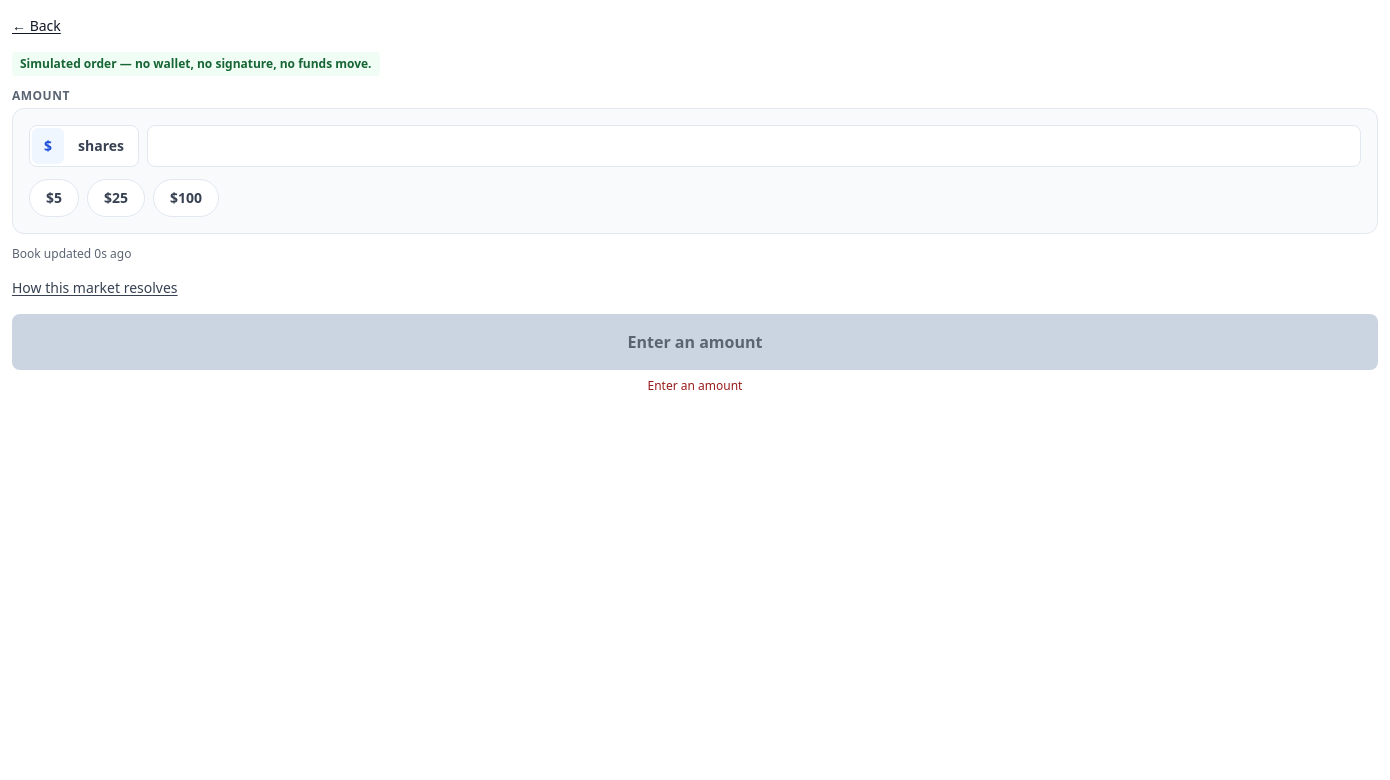
Test case: OrderPreviewState › labels the fee "estimated" when FeeConfig.source is category-fallback
Type "30" into the number field. click: (754, 146)
box: [147,125,1361,167]
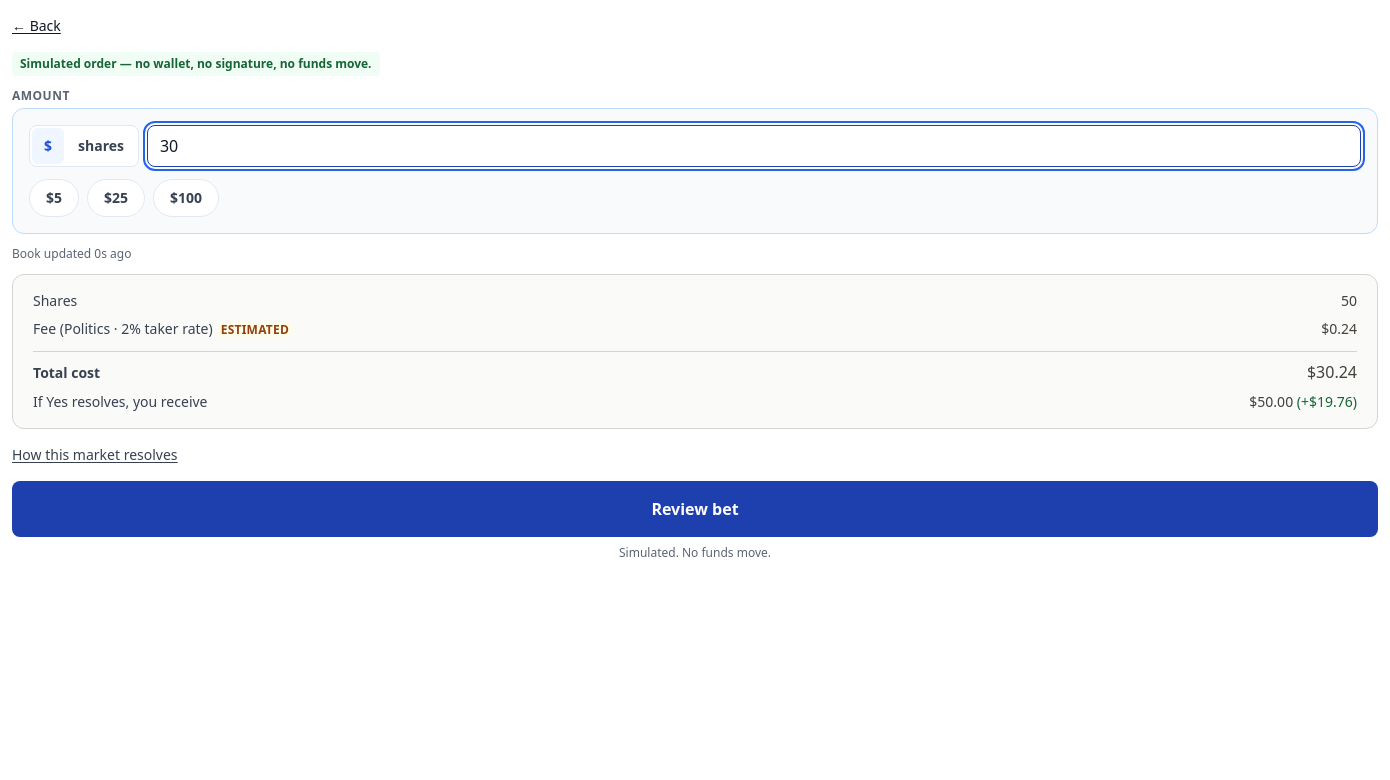
Now the text "estimated" is shown, box [217,322,293,338]
